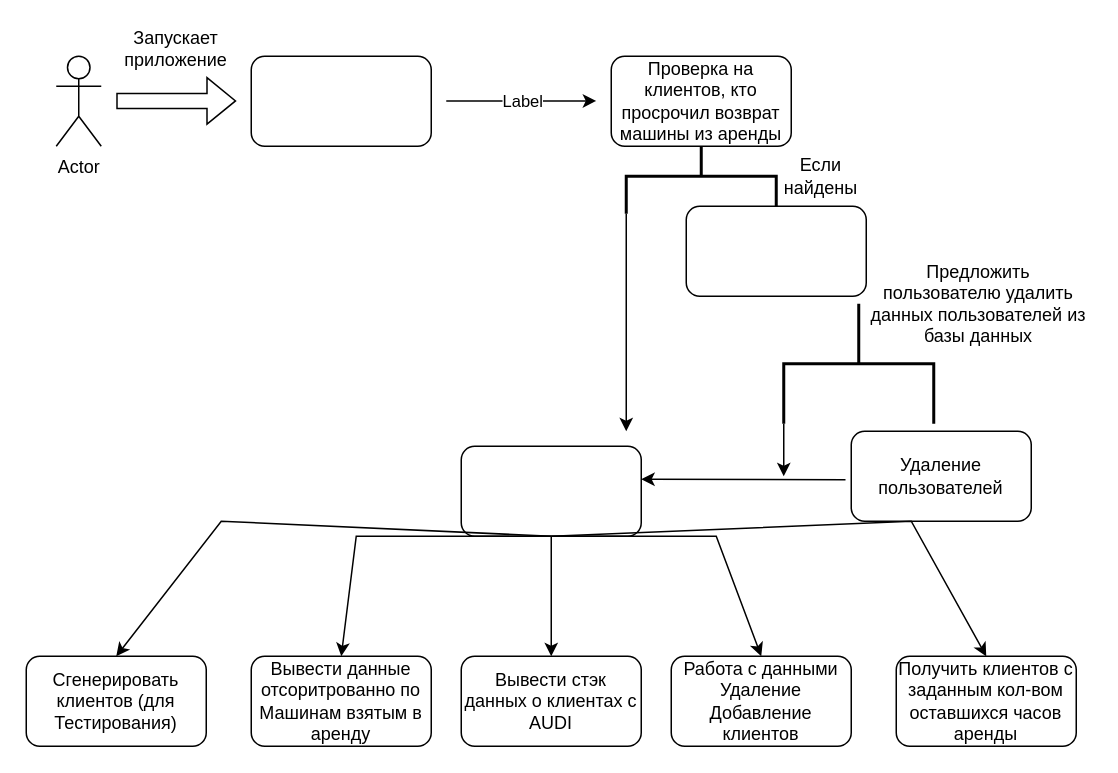
This 1118x773 diagram has some shape labels left out. Each missing label, with the box of its shape:
Вывести основное меню: (460, 445, 641, 536)
Вывод информации о просроченных: (685, 205, 866, 296)
Подгрузка всех данных: (250, 55, 431, 146)
